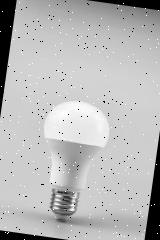lightbulb: (31, 96, 112, 224)
